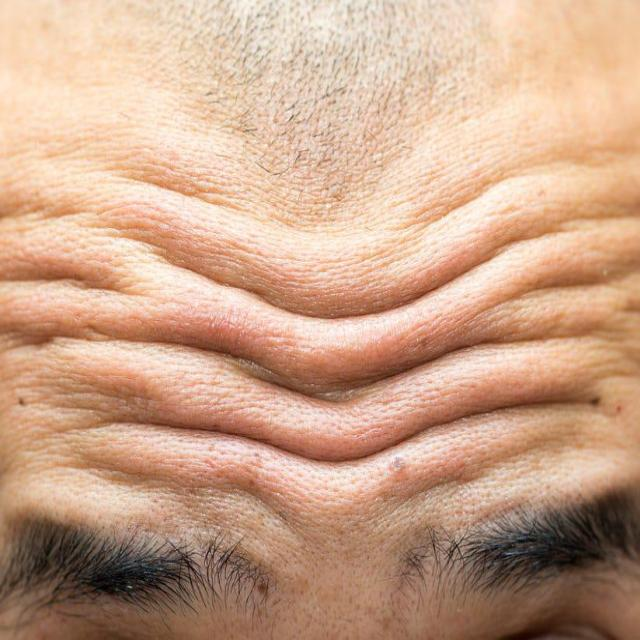Wrinkles: (2, 254, 639, 407), (4, 198, 638, 327), (51, 387, 621, 477), (118, 169, 243, 209), (1, 268, 146, 295)
